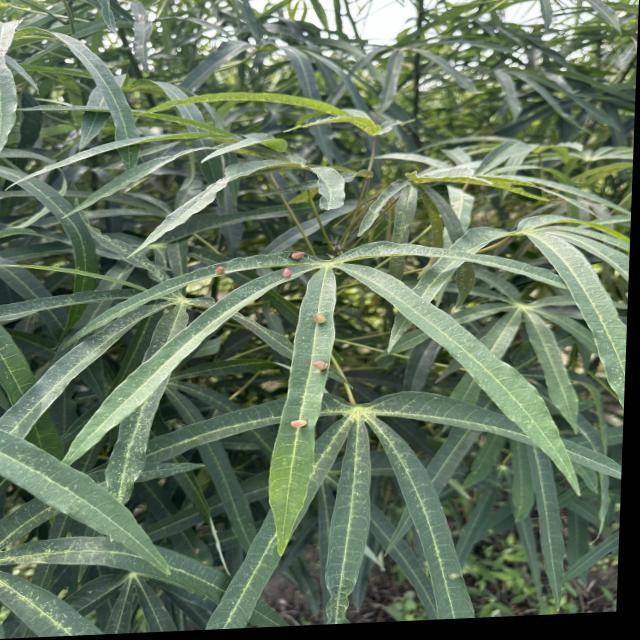Mosca: (305, 354, 334, 381), (309, 308, 330, 335), (285, 243, 316, 261), (288, 412, 312, 435), (276, 264, 298, 283), (211, 264, 231, 278)
